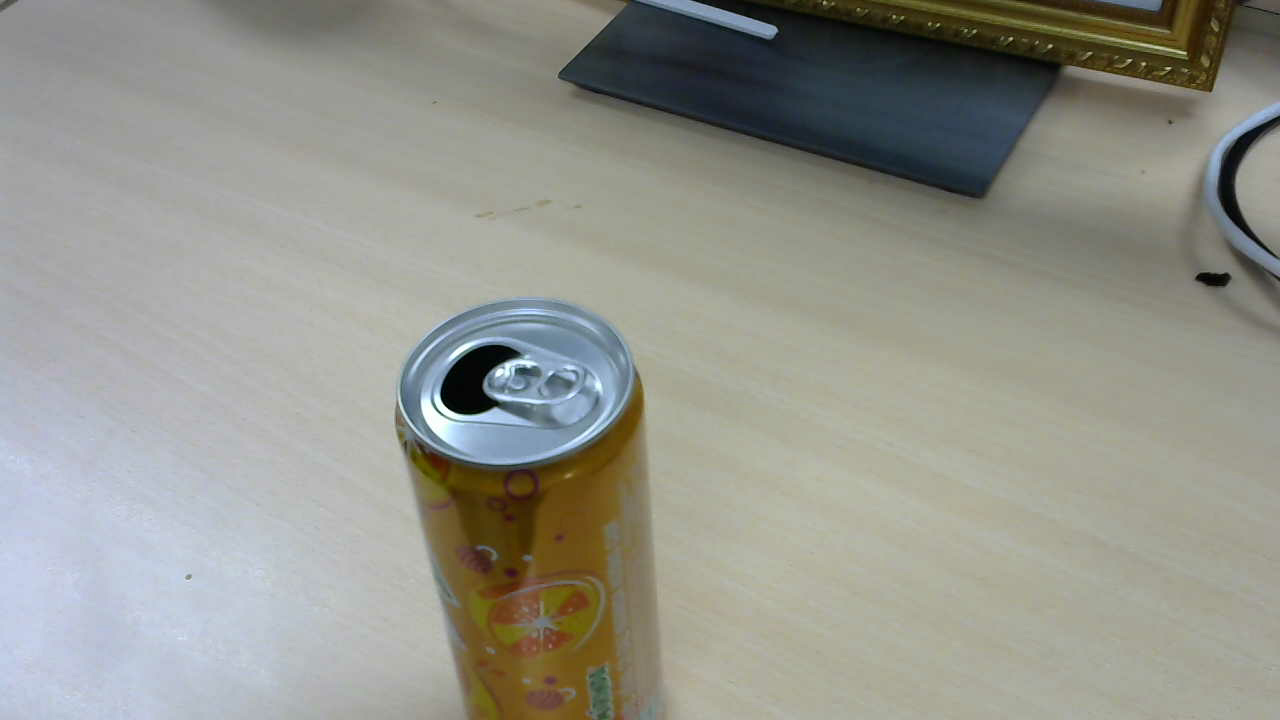Mirinda: (396, 300, 666, 698)
